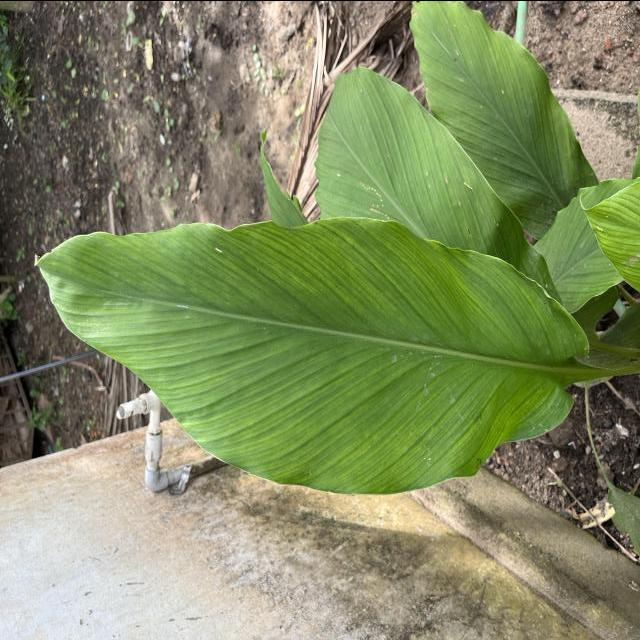Curcuma longa: (29, 212, 596, 497)
